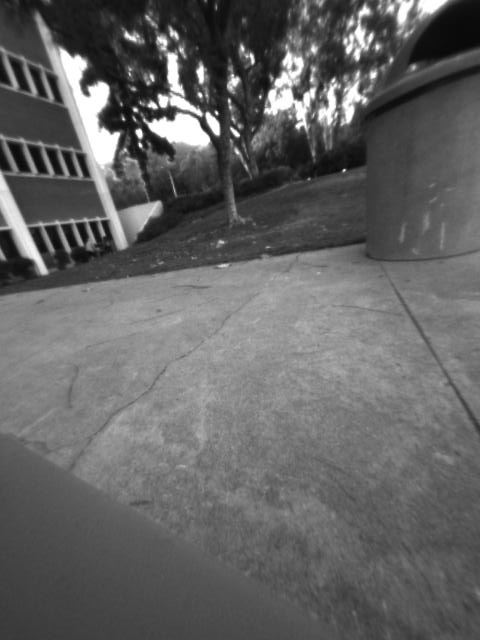trashcan: (365, 1, 480, 258)
